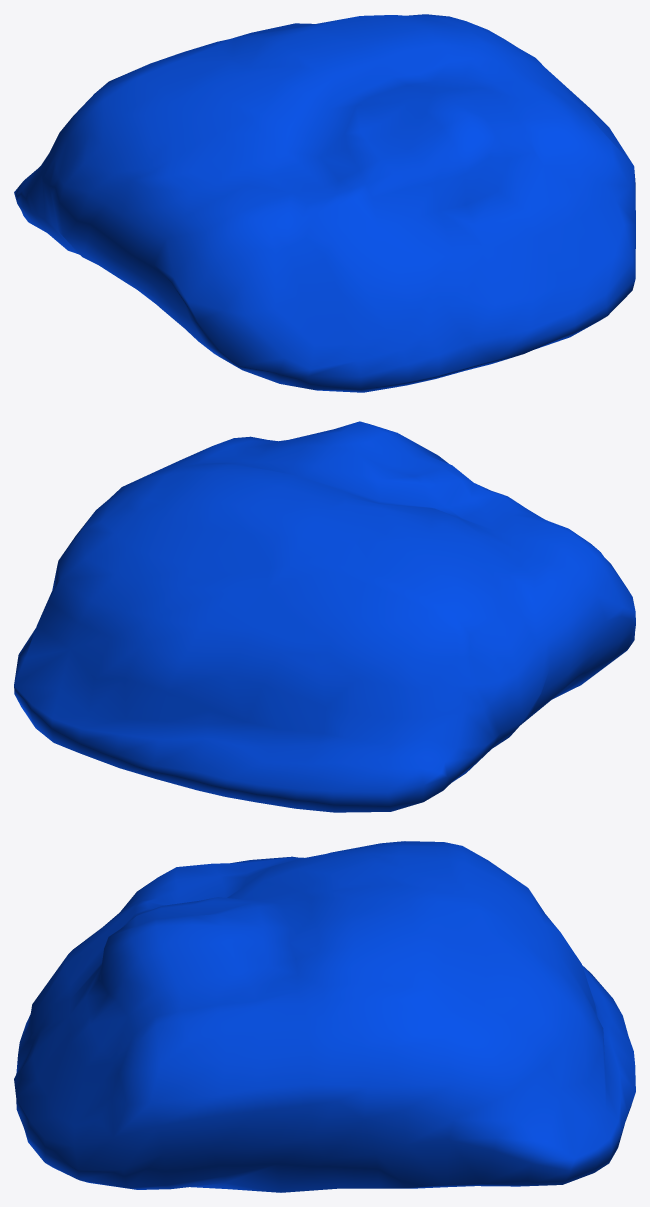
Rendered from Mega_Rock_02B_Lod0.fbx.
The picture shows the model from 3 angles, top to bottom: view 1: azimuth 30°, elevation 25°; view 2: azimuth 150°, elevation 25°; view 3: azimuth 270°, elevation 25°; orthographic projection. The views are drawn at different scales.
Parts seen in each view (by area): view 1: Mega_Rock_02B_Lod0; view 2: Mega_Rock_02B_Lod0; view 3: Mega_Rock_02B_Lod0.
Boxes of the visible parts, x1,y1,x2,y2 form: Mega_Rock_02B_Lod0: (14,14,635,392); Mega_Rock_02B_Lod0: (14,421,635,812); Mega_Rock_02B_Lod0: (14,841,635,1192).
Bounding box in the file's own units: 4526 × 2284 × 5018.
